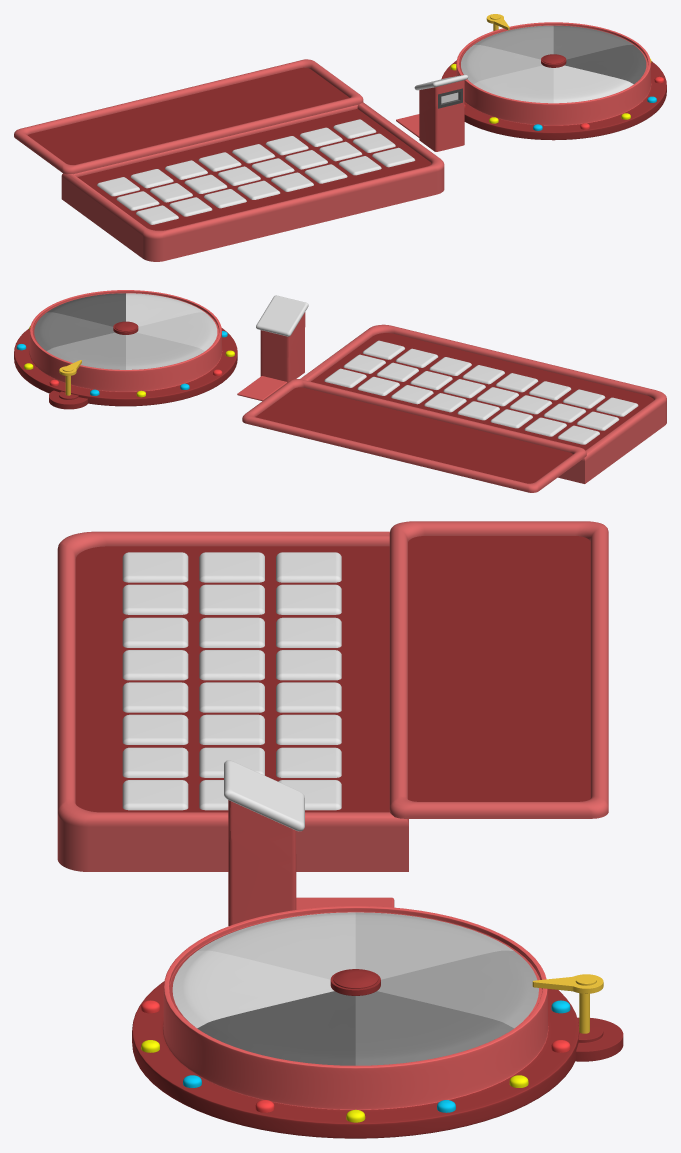
Rendered from SpinTheWheel_Assets_01.fbx.
3 views of the same model, one above another, from view 1: azimuth 30°, elevation 25°; view 2: azimuth 150°, elevation 25°; view 3: azimuth 270°, elevation 25° (orthographic). The views are drawn at different scales.
Visible parts, largest first — view 1: BoardBack, TextBoard, Spinner1, SpinnerBody, Desk, LetterBox20, LetterBox12, LetterBox5, LetterBox6, LetterBox13, LetterBox3, LetterBox9 (+18 smaller); view 2: TextBoard, BoardBack, Spinner1, SpinnerBody, Desk, Bottom_02, LetterBox16, LetterBox10, LetterBox22, LetterBox12, LetterBox17, LetterBox5 (+20 smaller); view 3: TextBoard, BoardBack, Spinner1, SpinnerBody, Desk, LetterBox9, LetterBox18, LetterBox12, LetterBox11, LetterBox19, LetterBox10, LetterBox21 (+20 smaller).
Part boxes in pixels (x1,y1,x2,y2): BoardBack: (61,102,444,261); TextBoard: (14,59,363,174); Spinner1: (461,25,646,103); SpinnerBody: (441,22,666,140); Desk: (396,74,468,151); LetterBox20: (218,166,260,185); LetterBox12: (271,172,313,191); LetterBox5: (165,160,207,179); LetterBox6: (130,169,173,188); LetterBox13: (333,119,376,138); LetterBox3: (265,136,308,155); LetterBox9: (338,156,381,175); TextBoard: (242,379,586,492); BoardBack: (300,324,666,483); Spinner1: (34,293,217,369); SpinnerBody: (14,290,237,406); Desk: (237,295,308,401); Bottom_02: (49,390,87,409); LetterBox16: (576,411,619,430); LetterBox10: (495,373,538,392); LetterBox22: (357,376,399,395); LetterBox12: (462,365,504,384); LetterBox17: (443,379,485,398); LetterBox5: (490,409,532,428); TextBoard: (389,521,608,818); BoardBack: (57,531,408,871); Spinner1: (172,912,538,1065); SpinnerBody: (132,906,579,1138); Desk: (224,760,394,925); LetterBox9: (122,747,188,777); LetterBox18: (122,552,188,582); LetterBox12: (122,682,188,712); LetterBox11: (122,584,188,614); LetterBox19: (122,617,188,647); LetterBox10: (122,650,188,680); LetterBox21: (122,780,188,810).
Bounding box in the file's own units: 38.36 × 4.48 × 16.51.
